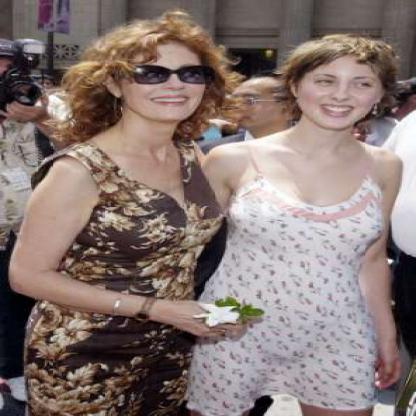face: (118, 29, 211, 124), (298, 42, 385, 131), (219, 77, 288, 132)
